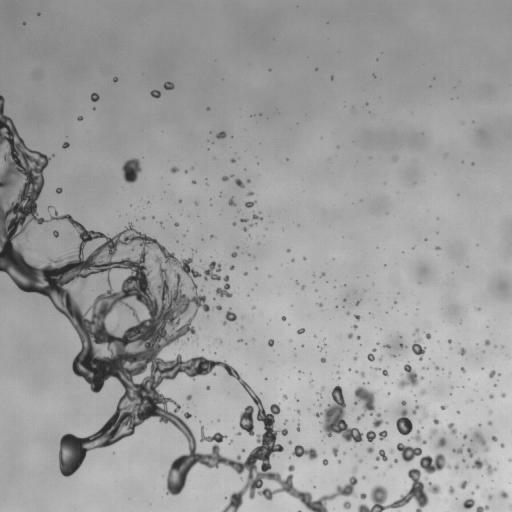droplet: (121, 158, 141, 183), (396, 409, 412, 435), (203, 260, 221, 281), (223, 307, 236, 325), (375, 449, 387, 462), (462, 498, 475, 509), (446, 422, 457, 434), (452, 443, 464, 454), (24, 137, 35, 148), (236, 192, 247, 203), (35, 205, 46, 216), (175, 249, 186, 260), (220, 255, 231, 266), (219, 296, 230, 307), (58, 314, 69, 325), (68, 329, 79, 340), (71, 341, 82, 352), (158, 349, 169, 360), (407, 353, 418, 364), (423, 368, 434, 379), (104, 375, 115, 386), (351, 376, 362, 387), (497, 376, 508, 387), (342, 389, 353, 400), (428, 404, 439, 415), (302, 411, 313, 422), (438, 411, 449, 422), (146, 415, 157, 426), (271, 420, 282, 431), (358, 422, 369, 433), (436, 423, 447, 434), (480, 427, 491, 438), (174, 430, 185, 441), (332, 432, 343, 443), (400, 434, 411, 445), (446, 435, 457, 446), (371, 438, 382, 449), (379, 439, 390, 450), (470, 440, 481, 451), (439, 445, 450, 456), (473, 448, 484, 459), (268, 452, 279, 463), (443, 452, 454, 463), (342, 455, 353, 466), (409, 457, 420, 468), (191, 462, 202, 473), (458, 468, 469, 479), (418, 470, 429, 481), (429, 470, 440, 481), (292, 479, 303, 490), (458, 489, 469, 500), (349, 495, 360, 506), (234, 178, 245, 188), (436, 437, 446, 448), (163, 81, 174, 90), (150, 89, 161, 98), (252, 211, 263, 220), (458, 480, 469, 489), (378, 430, 387, 440), (432, 414, 440, 425), (332, 445, 339, 457), (90, 92, 99, 101), (342, 500, 351, 509), (243, 207, 252, 216), (390, 344, 399, 353), (457, 356, 466, 365), (411, 363, 420, 372), (416, 379, 425, 388), (82, 381, 91, 390), (389, 383, 398, 392), (404, 402, 413, 411), (318, 403, 327, 412), (105, 408, 114, 417), (286, 423, 295, 432), (75, 429, 84, 438), (444, 432, 453, 441), (274, 434, 283, 443), (284, 444, 293, 453), (324, 450, 333, 459), (290, 455, 299, 464), (51, 461, 60, 470), (365, 468, 374, 477), (339, 477, 348, 486), (377, 478, 386, 487), (404, 478, 413, 487), (352, 484, 361, 493), (439, 484, 448, 493), (326, 485, 335, 494), (254, 493, 263, 502), (336, 494, 345, 503), (292, 497, 301, 506), (408, 497, 417, 506), (364, 498, 373, 507), (323, 500, 332, 509), (228, 196, 236, 206), (457, 347, 466, 355), (467, 448, 475, 457), (216, 131, 226, 138), (448, 485, 455, 495), (505, 444, 511, 455), (398, 505, 409, 511), (423, 331, 431, 339), (500, 490, 508, 498), (170, 166, 179, 173), (353, 314, 361, 321), (367, 353, 374, 361), (0, 161, 5, 172), (212, 304, 221, 310), (296, 328, 305, 334), (419, 388, 426, 395), (184, 412, 191, 419), (159, 87, 166, 94), (2, 108, 9, 115), (209, 133, 216, 140), (2, 140, 9, 147), (125, 153, 132, 160), (138, 160, 145, 167), (177, 164, 184, 171), (117, 169, 124, 176), (176, 169, 183, 176), (135, 171, 142, 178), (228, 177, 235, 184), (124, 180, 131, 187), (244, 183, 251, 190), (165, 245, 172, 252), (286, 251, 293, 258), (294, 255, 301, 262), (229, 257, 236, 264), (196, 266, 203, 273), (218, 270, 225, 277), (227, 270, 234, 277), (193, 276, 200, 283), (217, 280, 224, 287), (30, 290, 37, 297), (40, 294, 47, 301), (204, 297, 211, 304), (219, 308, 226, 315), (190, 320, 197, 327), (312, 337, 319, 344), (70, 350, 77, 357), (193, 350, 200, 357), (205, 353, 212, 360), (181, 354, 188, 361), (371, 359, 378, 366), (364, 368, 371, 375), (302, 374, 309, 381), (77, 375, 84, 382), (350, 383, 357, 390), (405, 383, 412, 390), (364, 384, 371, 391), (118, 386, 125, 393), (493, 390, 500, 397), (328, 398, 335, 405), (358, 399, 365, 406), (372, 399, 379, 406), (264, 407, 271, 414), (405, 412, 412, 419), (272, 413, 279, 420), (379, 413, 386, 420), (318, 414, 325, 421), (369, 414, 376, 421), (98, 419, 105, 426), (346, 421, 353, 428), (411, 422, 418, 429), (373, 426, 380, 433), (409, 428, 416, 435), (419, 432, 426, 439), (432, 434, 439, 441), (485, 438, 492, 445), (463, 439, 470, 446), (410, 441, 417, 448), (302, 443, 309, 450), (105, 444, 112, 451), (182, 448, 189, 455), (420, 449, 427, 456), (395, 450, 402, 457), (461, 450, 468, 457), (172, 452, 179, 459), (301, 453, 308, 460), (315, 455, 322, 462), (397, 457, 404, 464), (467, 457, 474, 464), (81, 458, 88, 465), (458, 462, 465, 469), (77, 464, 84, 471), (418, 467, 425, 474), (472, 467, 479, 474), (74, 468, 81, 475), (241, 468, 248, 475), (280, 472, 287, 479), (160, 480, 167, 487), (183, 480, 190, 487), (465, 483, 472, 490), (180, 486, 187, 493), (232, 486, 239, 493), (454, 486, 461, 493), (364, 488, 371, 495), (281, 490, 288, 497), (493, 492, 500, 499), (241, 493, 248, 500), (310, 494, 317, 501), (345, 494, 352, 501), (458, 496, 465, 503), (52, 230, 58, 238), (454, 463, 459, 472), (506, 390, 511, 399), (236, 506, 245, 511), (301, 506, 310, 511), (349, 506, 358, 511), (420, 506, 429, 511), (467, 506, 476, 511), (62, 142, 69, 148), (230, 251, 237, 257), (268, 339, 274, 346), (440, 404, 447, 410), (293, 409, 300, 415), (359, 493, 366, 499), (246, 191, 254, 196), (399, 343, 407, 348), (56, 187, 62, 193), (347, 332, 353, 338), (484, 339, 490, 345), (491, 435, 497, 441), (322, 459, 328, 465), (386, 463, 392, 469), (315, 302, 322, 307), (352, 466, 357, 473), (240, 218, 248, 222), (77, 116, 83, 121), (242, 226, 248, 231), (319, 272, 325, 277), (351, 324, 357, 329), (320, 357, 325, 363), (460, 367, 465, 373), (186, 394, 191, 400), (487, 494, 492, 500), (507, 490, 511, 497), (113, 77, 118, 82), (392, 156, 397, 161), (229, 265, 234, 270), (281, 316, 286, 321), (500, 392, 505, 397), (282, 394, 287, 399), (401, 400, 406, 405), (487, 420, 492, 425), (462, 434, 467, 439), (393, 458, 398, 463), (162, 77, 167, 82), (173, 83, 178, 88), (166, 88, 171, 93), (96, 90, 101, 95), (151, 96, 156, 101), (86, 97, 91, 102), (91, 101, 96, 106), (75, 111, 80, 116), (12, 119, 17, 124), (15, 126, 20, 131), (215, 128, 220, 133), (18, 132, 23, 137), (224, 134, 229, 139), (218, 137, 223, 142), (23, 139, 28, 144), (58, 140, 63, 145), (206, 142, 211, 147), (40, 149, 45, 154), (45, 152, 50, 157), (225, 158, 230, 163), (47, 159, 52, 164), (119, 161, 124, 166), (169, 162, 174, 167), (175, 163, 180, 168), (42, 167, 47, 172), (173, 171, 178, 176), (224, 171, 229, 176), (233, 174, 238, 179), (43, 178, 48, 183), (240, 178, 245, 183), (222, 180, 227, 185), (234, 184, 239, 189), (40, 187, 45, 192), (224, 196, 229, 201), (248, 196, 253, 201), (232, 197, 237, 202), (34, 198, 39, 203), (229, 204, 234, 209), (251, 204, 256, 209), (57, 211, 62, 216), (136, 214, 141, 219), (247, 214, 252, 219), (72, 215, 77, 220), (235, 219, 240, 224), (241, 221, 246, 226), (85, 226, 90, 231), (118, 226, 123, 231), (100, 228, 105, 233), (242, 231, 247, 236), (108, 233, 113, 238), (204, 234, 209, 239), (159, 240, 164, 245), (230, 247, 235, 252), (235, 248, 240, 253), (183, 254, 188, 259), (207, 257, 212, 262), (214, 258, 219, 263), (204, 264, 209, 269), (211, 268, 216, 273), (200, 271, 205, 276), (226, 288, 231, 293), (211, 290, 216, 295), (248, 290, 253, 295), (198, 291, 203, 296), (48, 302, 53, 307), (50, 305, 55, 310), (198, 306, 203, 311), (343, 306, 348, 311), (230, 307, 235, 312), (206, 309, 211, 314), (59, 313, 64, 318), (221, 315, 226, 320), (235, 315, 240, 320), (226, 320, 231, 325), (296, 324, 301, 329), (193, 326, 198, 331), (409, 327, 414, 332), (185, 331, 190, 336), (429, 331, 434, 336), (342, 333, 347, 338), (351, 334, 356, 339), (421, 334, 426, 339), (179, 335, 184, 340), (479, 339, 484, 344), (489, 340, 494, 345), (169, 341, 174, 346), (238, 341, 243, 346), (289, 342, 294, 347), (407, 342, 412, 347), (460, 342, 465, 347), (295, 343, 300, 348), (371, 343, 376, 348), (375, 344, 380, 349), (482, 344, 487, 349), (455, 346, 460, 351), (464, 346, 469, 351), (409, 350, 414, 355), (320, 352, 325, 357), (421, 352, 426, 357), (463, 352, 468, 357), (171, 355, 176, 360), (227, 361, 232, 366), (67, 362, 72, 367), (429, 364, 434, 369), (68, 368, 73, 373), (386, 368, 391, 373), (443, 368, 448, 373), (485, 368, 490, 373), (402, 370, 407, 375), (297, 372, 302, 377), (355, 372, 360, 377), (462, 372, 467, 377), (310, 373, 315, 378), (239, 374, 244, 379), (492, 374, 497, 379), (362, 376, 367, 381), (329, 384, 334, 389), (424, 386, 429, 391), (341, 390, 346, 395), (91, 391, 96, 396), (257, 393, 262, 398), (483, 394, 488, 399), (273, 399, 278, 404), (416, 400, 421, 405), (278, 404, 283, 409), (400, 404, 405, 409), (365, 409, 370, 414), (396, 413, 401, 418), (435, 414, 440, 419), (487, 415, 492, 420), (446, 418, 451, 423), (166, 420, 171, 425), (481, 421, 486, 426), (432, 423, 437, 428), (134, 425, 139, 430), (392, 425, 397, 430), (476, 426, 481, 431), (445, 427, 450, 432), (394, 429, 399, 434), (331, 431, 336, 436), (494, 432, 499, 437), (57, 433, 62, 438), (285, 433, 290, 438), (361, 434, 366, 439), (374, 434, 379, 439), (466, 434, 471, 439), (121, 436, 126, 441), (464, 437, 469, 442), (55, 438, 60, 443), (349, 438, 354, 443), (496, 438, 501, 443), (297, 440, 302, 445), (291, 441, 296, 446), (503, 441, 508, 446), (454, 444, 459, 449), (315, 449, 320, 454), (85, 450, 90, 455), (336, 450, 341, 455), (384, 451, 389, 456), (291, 454, 296, 459), (430, 454, 435, 459), (472, 454, 477, 459), (353, 457, 358, 462), (373, 460, 378, 465), (218, 462, 223, 467), (284, 462, 289, 467), (490, 462, 495, 467), (481, 464, 486, 469), (211, 466, 216, 471), (441, 466, 446, 471), (387, 468, 392, 473), (290, 470, 295, 475), (491, 470, 496, 475), (57, 471, 62, 476), (163, 471, 168, 476), (403, 472, 408, 477), (355, 475, 360, 480), (457, 478, 462, 483), (163, 486, 168, 491), (503, 487, 508, 492), (473, 488, 478, 493), (487, 489, 492, 494), (483, 491, 488, 496), (167, 492, 172, 497), (271, 493, 276, 498), (467, 493, 472, 498), (470, 494, 475, 499), (395, 495, 400, 500), (501, 497, 506, 502), (381, 501, 386, 506), (480, 502, 485, 507), (475, 307, 481, 311), (378, 355, 382, 361), (235, 431, 241, 435), (389, 448, 393, 454), (358, 457, 362, 463), (372, 465, 378, 469), (0, 186, 3, 193), (0, 270, 3, 277), (230, 158, 235, 162), (191, 180, 196, 184), (174, 222, 179, 226), (210, 234, 215, 238), (295, 280, 299, 285), (301, 285, 305, 290), (206, 385, 210, 390), (489, 394, 494, 398), (283, 419, 287, 424), (475, 484, 479, 489), (435, 246, 441, 249), (246, 179, 250, 183), (178, 199, 182, 203), (146, 200, 150, 204), (194, 201, 198, 205), (232, 222, 236, 226), (286, 248, 290, 252), (302, 256, 306, 260), (393, 300, 397, 304), (345, 311, 349, 315), (240, 325, 244, 329), (356, 335, 360, 339), (447, 339, 451, 343), (372, 348, 376, 352), (456, 410, 460, 414), (488, 410, 492, 414), (288, 440, 292, 444), (500, 443, 504, 447), (241, 448, 245, 452), (337, 459, 341, 463), (361, 475, 365, 479), (470, 491, 474, 495), (372, 73, 375, 78), (330, 75, 333, 80), (234, 246, 239, 249), (390, 354, 395, 357), (298, 370, 303, 373), (344, 508, 349, 511), (382, 508, 387, 511), (482, 508, 487, 511), (22, 21, 25, 25), (206, 107, 210, 110), (205, 182, 209, 185), (141, 216, 145, 219), (291, 258, 294, 262), (243, 272, 247, 275), (199, 289, 203, 292), (343, 298, 346, 302), (252, 305, 255, 309), (335, 305, 338, 309), (450, 385, 453, 389), (493, 384, 497, 387), (318, 403, 321, 407), (418, 419, 421, 423), (343, 451, 346, 455), (461, 459, 465, 462), (465, 465, 469, 468), (37, 12, 40, 15), (268, 68, 271, 71), (315, 68, 318, 71), (365, 102, 368, 105), (92, 107, 95, 110), (336, 145, 339, 148), (471, 162, 474, 165), (184, 170, 187, 173), (264, 227, 267, 230), (424, 238, 427, 241), (313, 334, 316, 337), (252, 338, 255, 341), (244, 342, 247, 345), (301, 344, 304, 347), (201, 348, 204, 351), (482, 350, 485, 353), (259, 368, 262, 371), (348, 368, 351, 371), (264, 377, 267, 380), (387, 392, 390, 395), (307, 407, 310, 410), (217, 419, 220, 422), (478, 423, 481, 426), (354, 454, 357, 457), (508, 458, 511, 461), (313, 485, 316, 488), (37, 9, 40, 12), (33, 12, 36, 15), (36, 15, 39, 18), (19, 20, 22, 23), (23, 24, 26, 27), (372, 57, 375, 60), (311, 67, 314, 70), (316, 69, 319, 72), (269, 70, 272, 73), (374, 72, 377, 75), (370, 75, 373, 78), (327, 76, 330, 79), (332, 76, 335, 79), (109, 77, 112, 80), (117, 77, 120, 80), (169, 79, 172, 82), (114, 81, 117, 84), (150, 87, 153, 90), (94, 90, 97, 93), (88, 92, 91, 95), (2, 95, 5, 98), (362, 103, 365, 106), (204, 104, 207, 107), (208, 104, 211, 107), (366, 104, 369, 107), (207, 109, 210, 112), (250, 111, 253, 114), (255, 112, 258, 115), (246, 113, 249, 116), (251, 115, 254, 118), (259, 115, 262, 118), (75, 119, 78, 122), (80, 119, 83, 122), (67, 140, 70, 143), (208, 140, 211, 143), (65, 146, 68, 149), (30, 147, 33, 150), (61, 147, 64, 150), (287, 155, 290, 158), (233, 156, 236, 159), (283, 159, 286, 162), (468, 160, 471, 163), (232, 161, 235, 164), (468, 163, 471, 166), (472, 164, 475, 167), (187, 169, 190, 172), (204, 174, 207, 177), (248, 176, 251, 179), (192, 177, 195, 180), (188, 179, 191, 182), (195, 179, 198, 182), (203, 179, 206, 182), (192, 183, 195, 186), (57, 184, 60, 187), (52, 188, 55, 191), (61, 189, 64, 192), (58, 192, 61, 195), (216, 192, 219, 195), (220, 192, 223, 195), (145, 197, 148, 200), (149, 199, 152, 202), (175, 199, 178, 202), (181, 199, 184, 202), (196, 199, 199, 202), (209, 200, 212, 203), (225, 200, 228, 203), (47, 202, 50, 205), (147, 202, 150, 205), (178, 202, 181, 205), (197, 202, 200, 205), (192, 203, 195, 206), (131, 204, 134, 207), (151, 212, 154, 215), (255, 212, 258, 215), (140, 213, 143, 216), (148, 215, 151, 218), (154, 215, 157, 218), (166, 215, 169, 218), (241, 215, 244, 218), (262, 217, 265, 220), (152, 218, 155, 221), (253, 218, 256, 221), (175, 219, 178, 222), (230, 219, 233, 222), (171, 221, 174, 224), (156, 222, 159, 225), (161, 223, 164, 226), (229, 223, 232, 226), (252, 224, 255, 227), (132, 225, 135, 228), (173, 225, 176, 228), (122, 227, 125, 230), (93, 228, 96, 231), (136, 228, 139, 231), (240, 229, 243, 232), (184, 231, 187, 234), (207, 232, 210, 235), (212, 232, 215, 235), (145, 233, 148, 236), (250, 233, 253, 236), (422, 235, 425, 238), (211, 236, 214, 239), (247, 237, 250, 240), (423, 240, 426, 243), (235, 242, 238, 245), (410, 243, 413, 246), (436, 243, 439, 246), (286, 245, 289, 248), (192, 246, 195, 249), (414, 246, 417, 249), (196, 248, 199, 251), (283, 248, 286, 251), (436, 248, 439, 251), (192, 250, 195, 253), (247, 250, 250, 253), (250, 252, 253, 255), (173, 254, 176, 257), (235, 255, 238, 258), (245, 255, 248, 258), (305, 255, 308, 258), (293, 259, 296, 262), (303, 259, 306, 262), (288, 260, 291, 263), (383, 260, 386, 263), (254, 263, 257, 266), (380, 263, 383, 266), (227, 264, 230, 267), (219, 265, 222, 268), (384, 265, 387, 268), (233, 266, 236, 269), (244, 268, 247, 271), (321, 268, 324, 271), (268, 271, 271, 274), (318, 272, 321, 275), (324, 272, 327, 275), (245, 274, 248, 277), (206, 275, 209, 278), (321, 275, 324, 278), (294, 276, 297, 279), (311, 276, 314, 279), (327, 279, 330, 282), (226, 280, 229, 283), (292, 281, 295, 284), (324, 282, 327, 285), (340, 282, 343, 285), (298, 283, 301, 286), (251, 284, 254, 287), (335, 284, 338, 287), (345, 284, 348, 287), (341, 285, 344, 288), (303, 286, 306, 289), (311, 287, 314, 290), (222, 294, 225, 297), (231, 294, 234, 297), (246, 296, 249, 299), (340, 296, 343, 299), (345, 296, 348, 299), (356, 297, 359, 300), (395, 298, 398, 301), (317, 300, 320, 303), (353, 300, 356, 303), (390, 300, 393, 303), (342, 301, 345, 304), (358, 301, 361, 304), (332, 303, 335, 306), (392, 303, 395, 306), (249, 304, 252, 307), (315, 304, 318, 307), (476, 304, 479, 307), (337, 305, 340, 308), (208, 306, 211, 309), (319, 306, 322, 309), (333, 307, 336, 310), (252, 308, 255, 311), (367, 308, 370, 311), (383, 308, 386, 311), (355, 312, 358, 315), (343, 313, 346, 316), (368, 313, 371, 316), (384, 313, 387, 316), (352, 316, 355, 319), (278, 317, 281, 320), (285, 317, 288, 320), (359, 317, 362, 320), (379, 324, 382, 327), (415, 324, 418, 327), (376, 326, 379, 329), (485, 327, 488, 330), (425, 330, 428, 333), (300, 332, 303, 335), (398, 332, 401, 335), (315, 333, 318, 336), (236, 336, 239, 339), (270, 336, 273, 339), (311, 336, 314, 339), (359, 336, 362, 339), (447, 336, 450, 339), (221, 338, 224, 341), (216, 339, 219, 342), (233, 339, 236, 342), (242, 339, 245, 342), (374, 339, 377, 342), (273, 340, 276, 343), (324, 340, 327, 343), (399, 340, 402, 343), (300, 341, 303, 344), (383, 341, 386, 344), (445, 341, 448, 344), (379, 342, 382, 345), (388, 342, 391, 345), (318, 343, 321, 346), (402, 343, 405, 346), (448, 343, 451, 346), (303, 344, 306, 347), (313, 344, 316, 347), (497, 344, 500, 347), (267, 345, 270, 348), (397, 345, 400, 348), (384, 346, 387, 349), (317, 347, 320, 350), (321, 348, 324, 351), (292, 349, 295, 352), (371, 351, 374, 354), (394, 352, 397, 355), (352, 353, 355, 356), (457, 353, 460, 356), (390, 355, 393, 358), (350, 356, 353, 359), (364, 356, 367, 359), (317, 358, 320, 361), (325, 358, 328, 361), (366, 359, 369, 362), (405, 361, 408, 364), (423, 364, 426, 367), (345, 366, 348, 369), (463, 366, 466, 369), (477, 366, 480, 369), (295, 367, 298, 370), (336, 367, 339, 370), (438, 367, 441, 370), (300, 368, 303, 371), (371, 368, 374, 371), (350, 369, 353, 372), (379, 369, 382, 372), (236, 370, 239, 373), (332, 370, 335, 373), (346, 370, 349, 373), (459, 370, 462, 373), (336, 373, 339, 376), (449, 373, 452, 376), (263, 374, 266, 377), (381, 374, 384, 377), (266, 375, 269, 378), (423, 376, 426, 379), (307, 377, 310, 380), (263, 379, 266, 382), (296, 379, 299, 382), (246, 381, 249, 384), (452, 383, 455, 386), (463, 383, 466, 386), (458, 384, 461, 387), (495, 385, 498, 388), (317, 389, 320, 392), (449, 389, 452, 392), (282, 391, 285, 394), (384, 391, 387, 394), (488, 391, 491, 394), (504, 391, 507, 394), (446, 393, 449, 396), (451, 393, 454, 396), (286, 394, 289, 397), (316, 394, 319, 397), (387, 394, 390, 397), (295, 395, 298, 398), (504, 395, 507, 398), (414, 396, 417, 399), (471, 396, 474, 399), (499, 396, 502, 399), (292, 398, 295, 401), (399, 398, 402, 401), (404, 398, 407, 401), (489, 398, 492, 401), (296, 401, 299, 404), (315, 401, 318, 404), (441, 402, 444, 405), (438, 407, 441, 410), (458, 408, 461, 411), (441, 409, 444, 412), (293, 410, 296, 413), (299, 410, 302, 413), (357, 412, 360, 415), (454, 412, 457, 415), (313, 415, 316, 418), (360, 416, 363, 419), (294, 424, 297, 427), (487, 424, 490, 427), (299, 426, 302, 429), (358, 429, 361, 432), (296, 431, 299, 434), (460, 433, 463, 436), (325, 435, 328, 438), (385, 435, 388, 438), (356, 441, 359, 444), (280, 443, 283, 446), (500, 447, 503, 450), (340, 459, 343, 462), (337, 463, 340, 466), (324, 464, 327, 467), (374, 468, 377, 471), (364, 473, 367, 476), (465, 478, 468, 481), (313, 482, 316, 485), (478, 483, 481, 486), (267, 275, 271, 277), (187, 337, 189, 341), (461, 160, 463, 163), (191, 166, 193, 169), (210, 203, 212, 206), (258, 211, 261, 213), (183, 234, 185, 237), (257, 242, 260, 244), (412, 246, 414, 249), (199, 259, 201, 262), (254, 267, 257, 269), (312, 274, 315, 276), (246, 294, 249, 296), (213, 297, 215, 300), (323, 337, 325, 340), (376, 342, 379, 344), (494, 345, 497, 347), (481, 367, 484, 369), (336, 371, 339, 373), (462, 385, 464, 388), (449, 393, 452, 395), (480, 398, 483, 400), (287, 407, 290, 409), (232, 426, 234, 429), (288, 456, 290, 459), (425, 477, 427, 480), (509, 455, 511, 458), (509, 461, 511, 464), (376, 58, 378, 60), (433, 77, 435, 79), (429, 85, 431, 87), (368, 111, 370, 113), (259, 113, 261, 115), (472, 120, 474, 122), (209, 131, 211, 133), (231, 136, 233, 138), (52, 154, 54, 156), (286, 158, 288, 160), (257, 162, 259, 164), (244, 168, 246, 170), (130, 204, 132, 206), (152, 216, 154, 218), (436, 217, 438, 219), (297, 224, 299, 226), (248, 234, 250, 236), (201, 238, 203, 240), (176, 240, 178, 242), (476, 244, 478, 246), (191, 248, 193, 250), (195, 250, 197, 252), (402, 251, 404, 253), (384, 264, 386, 266), (466, 265, 468, 267), (344, 284, 346, 286), (333, 286, 335, 288), (251, 288, 253, 290), (315, 289, 317, 291), (397, 292, 399, 294), (386, 311, 388, 313), (369, 312, 371, 314), (405, 313, 407, 315), (288, 323, 290, 325), (379, 328, 381, 330), (476, 343, 478, 345), (501, 345, 503, 347), (214, 352, 216, 354), (294, 354, 296, 356), (338, 377, 340, 379), (298, 378, 300, 380), (384, 382, 386, 384), (260, 392, 262, 394), (317, 399, 319, 401), (384, 410, 386, 412), (199, 420, 201, 422), (421, 426, 423, 428), (455, 497, 457, 499), (208, 148, 209, 150), (457, 194, 459, 195), (186, 230, 188, 231), (436, 232, 438, 233), (376, 247, 378, 248), (332, 258, 334, 259), (312, 281, 314, 282), (207, 315, 208, 317), (486, 326, 488, 327), (450, 347, 451, 349), (338, 365, 339, 367), (414, 394, 415, 396), (327, 22, 328, 23), (250, 115, 251, 116), (254, 114, 255, 115), (180, 214, 181, 215), (136, 219, 137, 220), (326, 281, 327, 282), (343, 306, 344, 307), (294, 348, 295, 349), (457, 386, 458, 387), (460, 432, 461, 433), (350, 448, 351, 449), (113, 452, 114, 453), (509, 482, 510, 483)
ligament: (239, 405, 254, 436), (412, 328, 426, 361), (291, 444, 318, 460), (366, 430, 376, 453), (370, 366, 388, 376), (221, 174, 234, 181), (244, 200, 257, 207), (429, 428, 437, 439), (476, 505, 489, 511), (354, 370, 365, 377), (247, 252, 255, 258), (296, 419, 300, 431), (434, 365, 443, 370), (158, 221, 164, 228), (355, 299, 361, 306), (192, 335, 198, 342), (249, 222, 257, 227), (294, 394, 299, 402), (353, 352, 357, 361), (309, 379, 313, 388), (383, 344, 391, 348), (228, 439, 233, 445), (236, 338, 243, 342), (466, 399, 473, 403), (218, 338, 222, 344), (421, 366, 429, 369), (448, 371, 451, 377), (287, 339, 292, 342), (219, 191, 221, 197), (398, 335, 402, 338), (509, 504, 511, 510), (237, 209, 240, 212), (459, 320, 461, 324), (428, 357, 430, 360), (309, 372, 311, 375), (297, 510, 301, 511)
